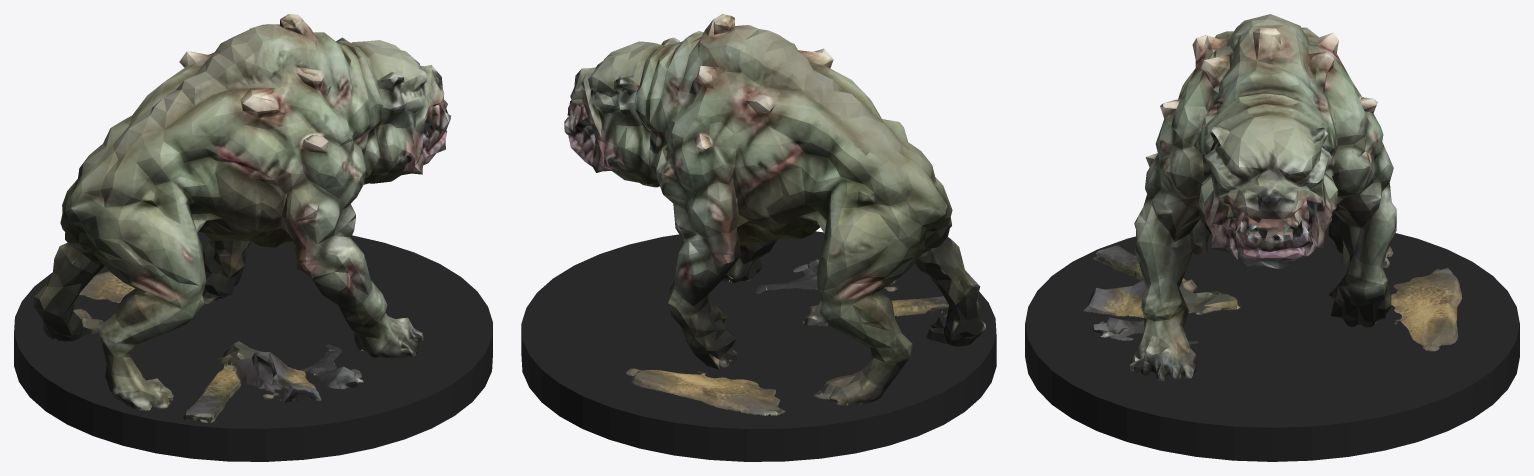
Rendered from mutant-hound.glb.
The picture shows the model from 3 angles, left to right: view 1: azimuth 30°, elevation 25°; view 2: azimuth 150°, elevation 25°; view 3: azimuth 270°, elevation 25°; orthographic projection. The views are drawn at different scales.
Visible parts, largest first — view 1: figure, base; view 2: figure, base; view 3: base, figure.
Part boxes in pixels (x1,y1,x2,y2): figure: (34, 14, 450, 422); base: (14, 231, 492, 461); figure: (564, 14, 985, 415); base: (521, 231, 996, 461); base: (1025, 226, 1519, 461); figure: (1083, 14, 1461, 381).
Bounding box in the file's own units: 1.57 × 1.22 × 1.57.
Materials: 2 (1 with a texture image).
